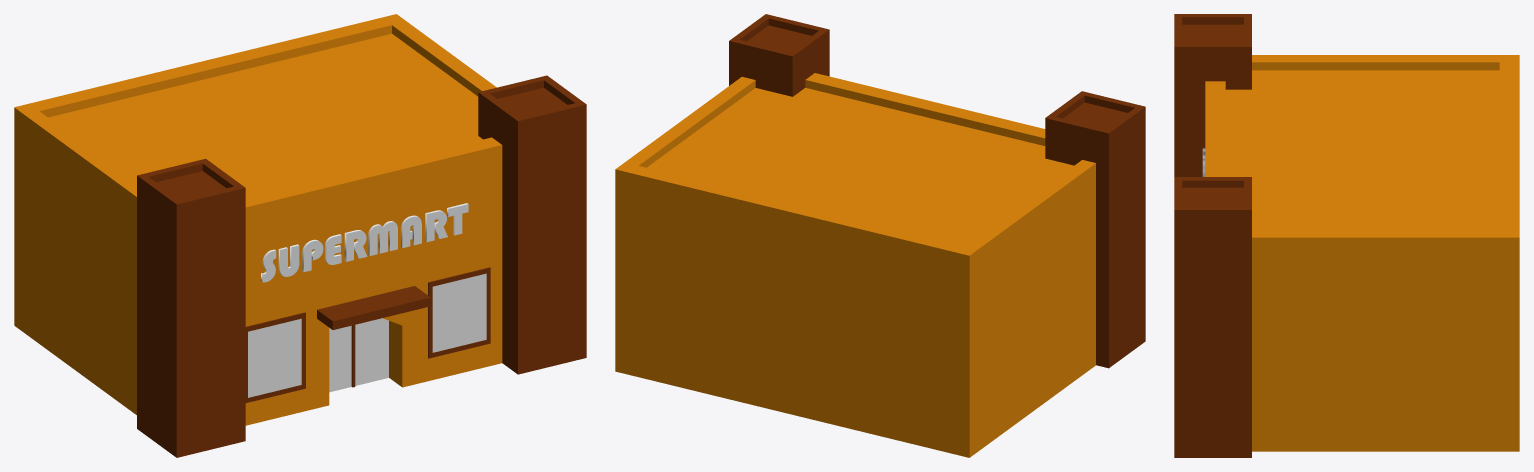
File: grocery store.fbx
3 renders of one model, left to right at view 1: azimuth 30°, elevation 25°; view 2: azimuth 150°, elevation 25°; view 3: azimuth 270°, elevation 25°, orthographic. The views are drawn at different scales.
Parts seen in each view (by area): view 1: Cube; view 2: Cube; view 3: Cube.
Part boxes in pixels (bbox=[...]): Cube: bbox=[14, 14, 586, 457]; Cube: bbox=[615, 14, 1145, 457]; Cube: bbox=[1174, 14, 1519, 457].
Bounding box in the file's own units: 1179 × 697 × 879.
